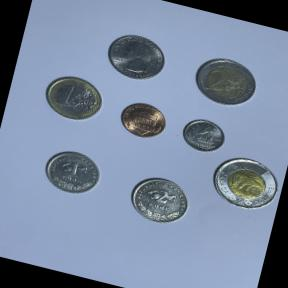1 Euro: (37, 69, 108, 127)
2 Euro: (186, 50, 266, 114)
Canda-10cent-: (175, 112, 231, 158)
Canda-2Dollar-: (205, 150, 286, 216)
Croatia-2Kune-: (124, 169, 197, 231)
US-1cent-: (114, 95, 172, 144)
US-25cent-: (101, 26, 173, 86)
